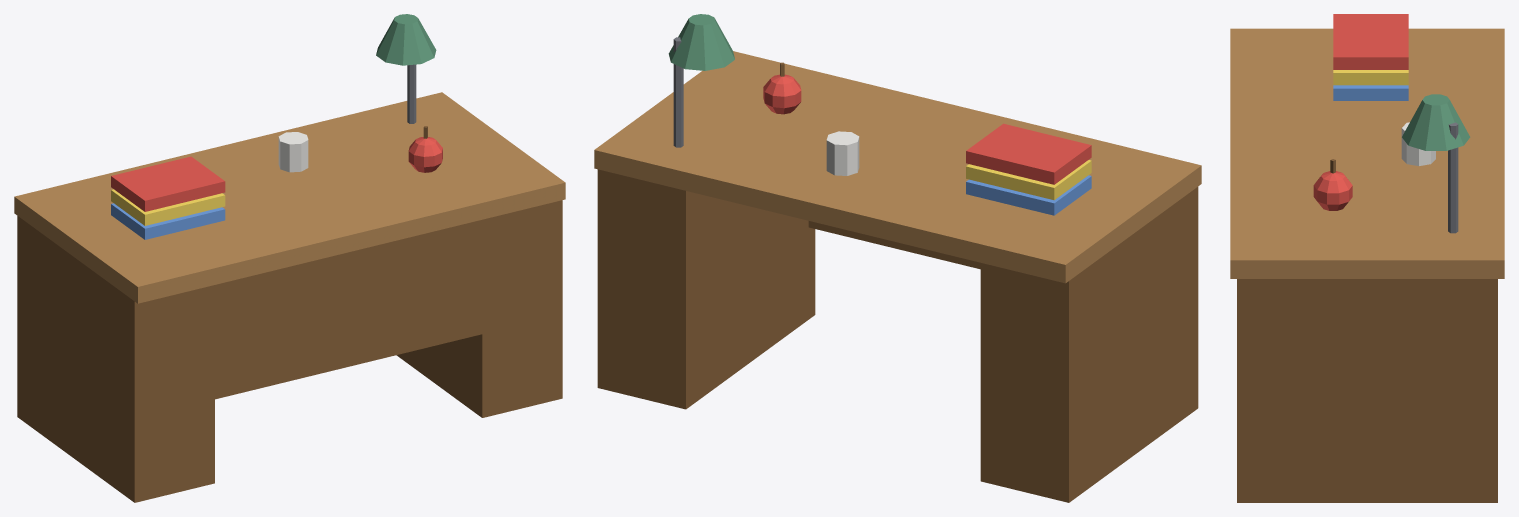
File: classroom_teacher.glb
The picture shows the model from 3 angles, left to right: view 1: azimuth 30°, elevation 25°; view 2: azimuth 150°, elevation 25°; view 3: azimuth 270°, elevation 25°; orthographic projection. The views are drawn at different scales.
Visible parts, largest first — view 1: classroom_teacher; view 2: classroom_teacher; view 3: classroom_teacher.
Part boxes in pixels (bbox=[...]): classroom_teacher: bbox=[14, 14, 565, 502]; classroom_teacher: bbox=[594, 14, 1201, 502]; classroom_teacher: bbox=[1230, 14, 1504, 502].
Size of the model in its own units: 1.6 by 1.18 by 0.8.
